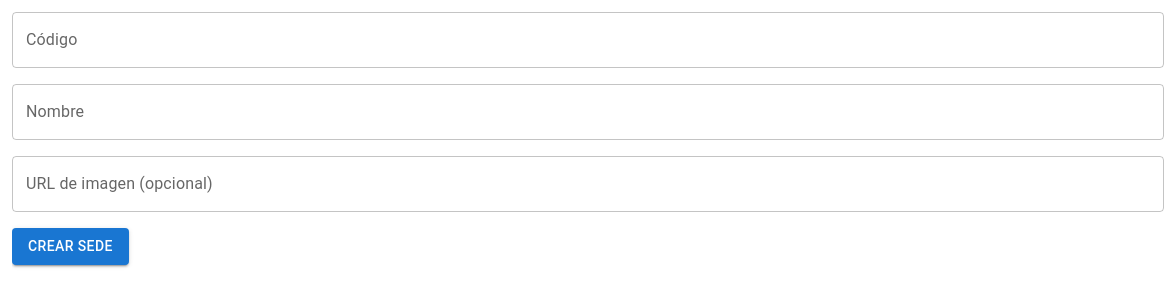
LocationForm › validates code format
The image size is (1176, 307).
Type "invalid@code" into the field labelled "Código" at coordinates (588, 40), box [12,12,1164,68]
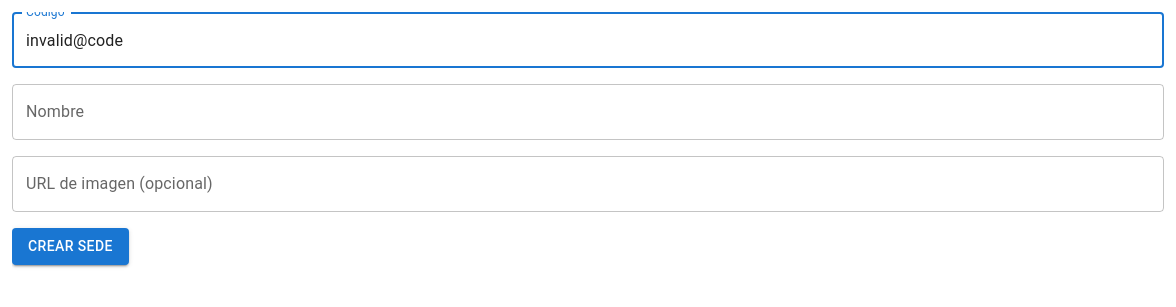
Leave the field labelled "Código", box [12,12,1164,68]
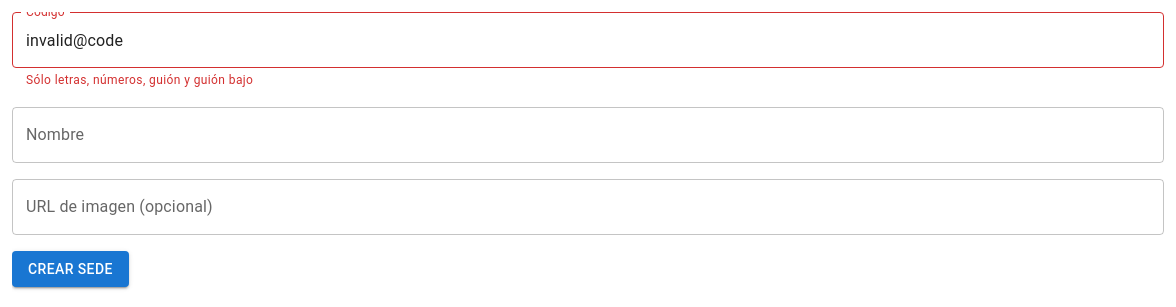
Expected: the text "Sólo letras, números, guión y guión bajo" is shown, [26,73,253,87]
